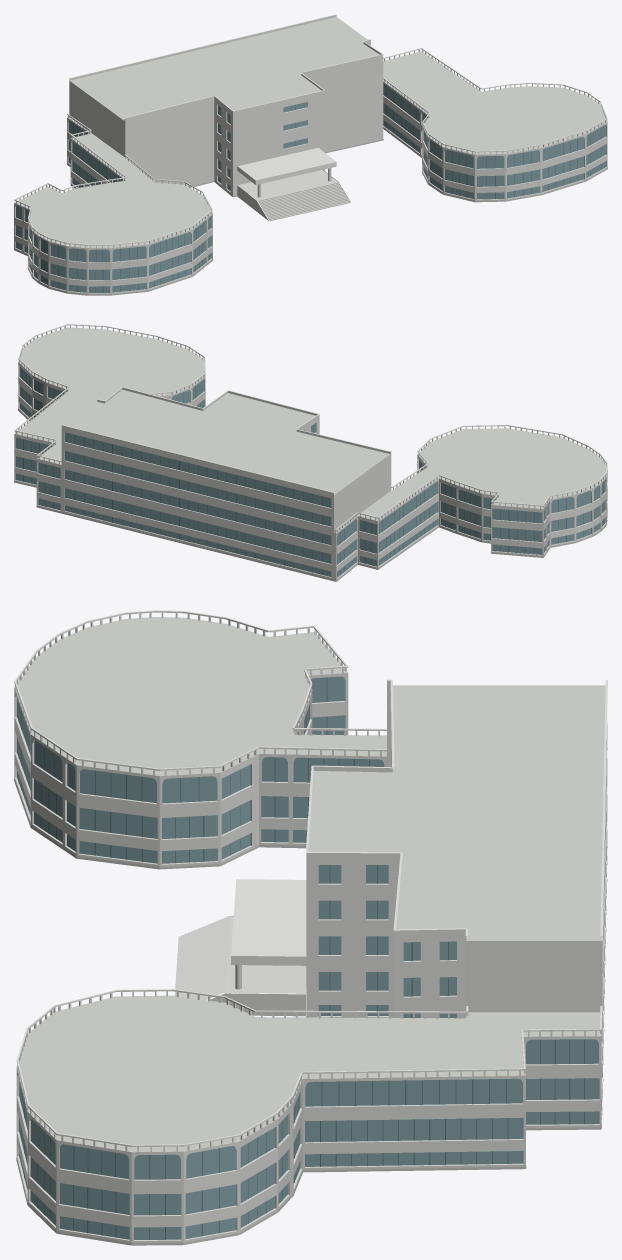
3 renders of one model, top to bottom at view 1: azimuth 30°, elevation 25°; view 2: azimuth 150°, elevation 25°; view 3: azimuth 270°, elevation 25°, orthographic. The views are drawn at different scales.
Visible parts, largest first — view 1: languages__roof, languages__wall, languages__glass, languages__trim, languages__externalStairTreads, languages__externalStairRisers, languages__parapet, languages__canopyTop, languages__entranceLanding, languages__frame, languages__base, languages__canopy; view 2: languages__roof, languages__wall, languages__glass, languages__trim, languages__frame, languages__parapet, languages__base; view 3: languages__roof, languages__wall, languages__glass, languages__trim, languages__canopyTop, languages__frame, languages__externalStairTreads, languages__base, languages__entranceLanding, languages__externalStairSides, languages__parapet.
Boxes of the visible parts, box(x1,y1,x2,y2) form: languages__roof: box(14, 17, 607, 248); languages__wall: box(14, 42, 607, 294); languages__glass: box(15, 83, 606, 292); languages__trim: box(14, 14, 607, 248); languages__externalStairTreads: box(257, 182, 350, 220); languages__externalStairRisers: box(258, 182, 350, 221); languages__parapet: box(69, 15, 383, 121); languages__canopyTop: box(238, 147, 336, 180); languages__entranceLanding: box(238, 170, 337, 200); languages__frame: box(31, 85, 601, 292); languages__base: box(14, 128, 607, 295); languages__canopy: box(237, 162, 336, 184); languages__roof: box(14, 327, 607, 532); languages__wall: box(14, 362, 607, 581); languages__glass: box(15, 367, 605, 577); languages__trim: box(14, 324, 607, 532); languages__frame: box(22, 370, 603, 575); languages__parapet: box(61, 387, 391, 495); languages__base: box(14, 409, 607, 581); languages__roof: box(14, 617, 605, 1245); languages__wall: box(14, 673, 607, 1244); languages__glass: box(17, 676, 599, 1239); languages__trim: box(14, 610, 607, 1151); languages__canopyTop: box(231, 879, 306, 956); languages__frame: box(18, 677, 584, 1239); languages__externalStairTreads: box(174, 916, 230, 999); languages__base: box(14, 778, 607, 1245); languages__entranceLanding: box(225, 916, 306, 993); languages__externalStairSides: box(181, 916, 305, 1016); languages__parapet: box(306, 680, 465, 935).
Bounding box in the file's own units: 126 × 18.57 × 58.88.
